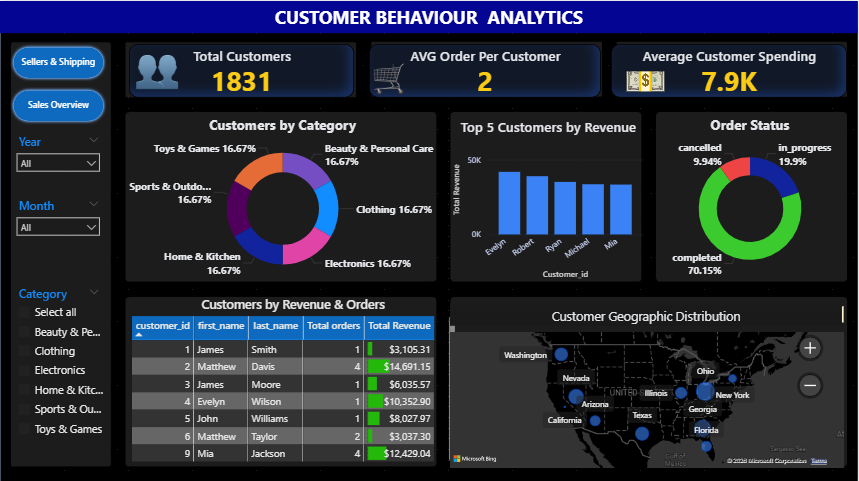

What the dashboard file says about the page in this screenshot:
{"tool":"powerbi","page":{"name":"Customer Behaviour","canvas":[1280,720],"ordinal":1},"visuals":[{"type":"card","title":"Total Customers","fields":{"Values":["order_items.Total Customers"]},"box":[192,64,336,80],"z":0},{"type":"card","title":"AVG Order Per Customer","fields":{"Values":["customers.Orders Per Customer"]},"box":[550.8,63.9,345.9,80.3],"z":1000},{"type":"card","title":"Average Customer Spending","fields":{"Values":["customers.Average Customer Spending"]},"box":[912,64,352,80],"z":2000},{"type":"tableEx","title":"Customers by Revenue & Orders","fields":{"Values":["customers.customer_id","customers.first_name","customers.last_name","order_items.Total orders","order_items.Total Revenue"]},"box":[191,440.3,492.5,252.2],"z":3000},{"type":"map","fields":{"Size":["order_items.Total Customers"],"Category":["customers.state"]},"box":[667.2,450.8,596.7,252.5],"z":4000},{"type":"slicer","fields":{"Values":["calendar_table.Month"]},"box":[15.6,287.8,144.4,96.7],"z":5000},{"type":"slicer","fields":{"Values":["calendar_table.Year"]},"box":[15.6,192.2,144.4,95.6],"z":6000},{"type":"clusteredColumnChart","title":"Top 5 Customers by Revenue","fields":{"Y":["order_items.Total Revenue"],"Category":["customers.first_name"]},"box":[671.6,171.6,294,247.8],"z":7000},{"type":"textbox","box":[0,0,1280,48],"z":8000},{"type":"slicer","fields":{"Values":["category.category_name"]},"box":[15,420,145,243.3],"z":9000},{"type":"shape","box":[15.6,64.4,144.4,55.6],"z":10000},{"type":"shape","box":[15.6,128.9,144.4,55.6],"z":11000},{"type":"shape","box":[672.1,450.8,585.2,34.4],"z":12000},{"type":"donutChart","title":"Customers by Category","fields":{"Category":["category.category_name"],"Y":["order_items.Customers"]},"box":[191.7,170,461.7,248.3],"z":13000},{"type":"donutChart","title":"Order Status","fields":{"Category":["orders.order_status"],"Y":["orders.Orders"]},"box":[976.7,170,286.7,248.3],"z":14000},{"type":"image","box":[197,59.7,74.6,80.6],"z":15000},{"type":"image","box":[550.7,88.1,59.7,56.7],"z":16000},{"type":"image","box":[928.4,100,70.1,40.3],"z":17001}]}

Visuals, with their boxes on the page's 1280x720 design canvas (x1, y1, x2, y2). These are canvas units, not pixel positions in the 859x481 screenshot, which may show the page scaled, cropped or inside an application window:
"Total Customers" card: bbox=[192, 64, 528, 144]
"AVG Order Per Customer" card: bbox=[551, 64, 897, 144]
"Average Customer Spending" card: bbox=[912, 64, 1264, 144]
"Customers by Revenue & Orders" tableEx: bbox=[191, 440, 684, 692]
map - order_items.Total Customers x customers.state: bbox=[667, 451, 1264, 703]
slicer - calendar_table.Month: bbox=[16, 288, 160, 384]
slicer - calendar_table.Year: bbox=[16, 192, 160, 288]
"Top 5 Customers by Revenue" clusteredColumnChart: bbox=[672, 172, 966, 419]
textbox: bbox=[0, 0, 1280, 48]
slicer - category.category_name: bbox=[15, 420, 160, 663]
shape: bbox=[16, 64, 160, 120]
shape: bbox=[16, 129, 160, 184]
shape: bbox=[672, 451, 1257, 485]
"Customers by Category" donutChart: bbox=[192, 170, 653, 418]
"Order Status" donutChart: bbox=[977, 170, 1263, 418]
image: bbox=[197, 60, 272, 140]
image: bbox=[551, 88, 610, 145]
image: bbox=[928, 100, 998, 140]
